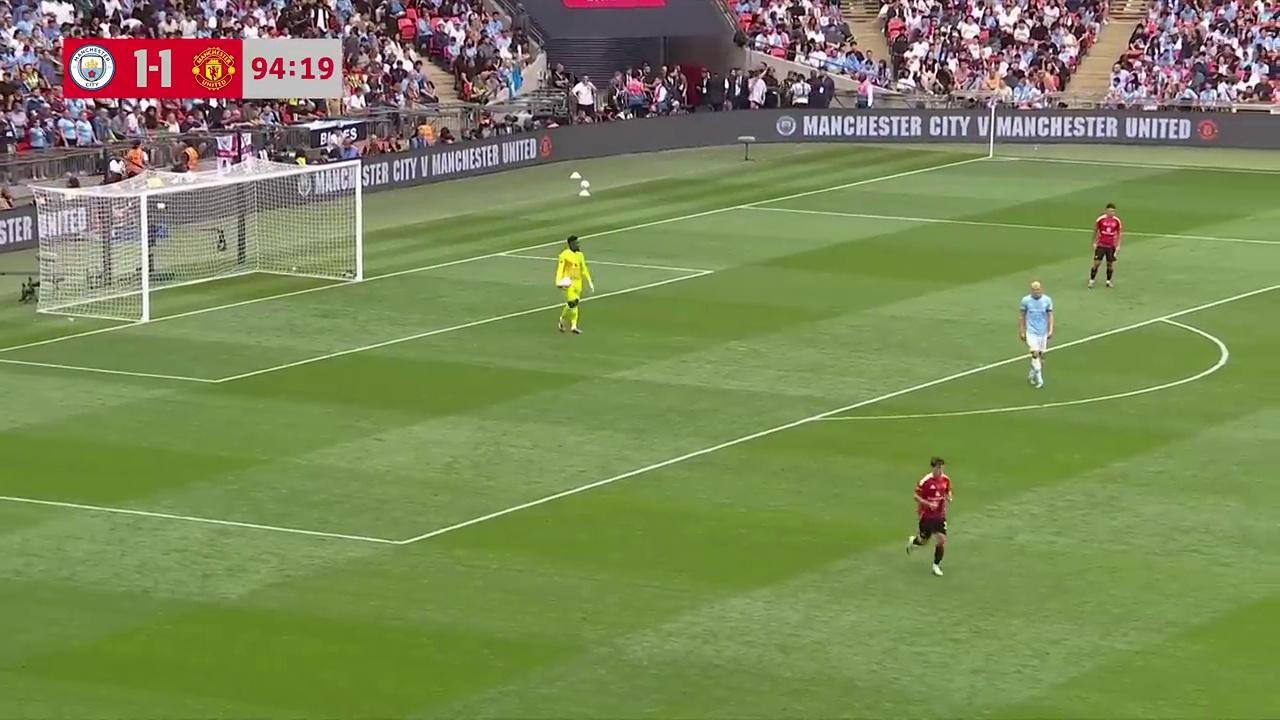ball: (559, 271, 570, 289)
player: (904, 457, 953, 575), (556, 232, 597, 335), (1019, 279, 1055, 388), (1089, 203, 1122, 288)
